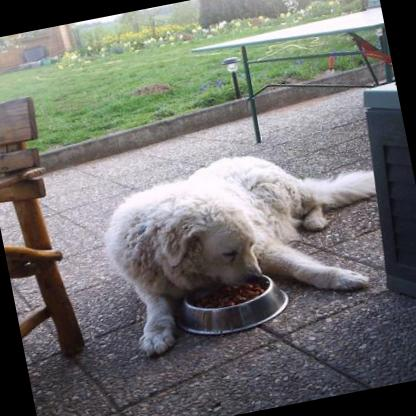kuvasz: (87, 126, 401, 361)
